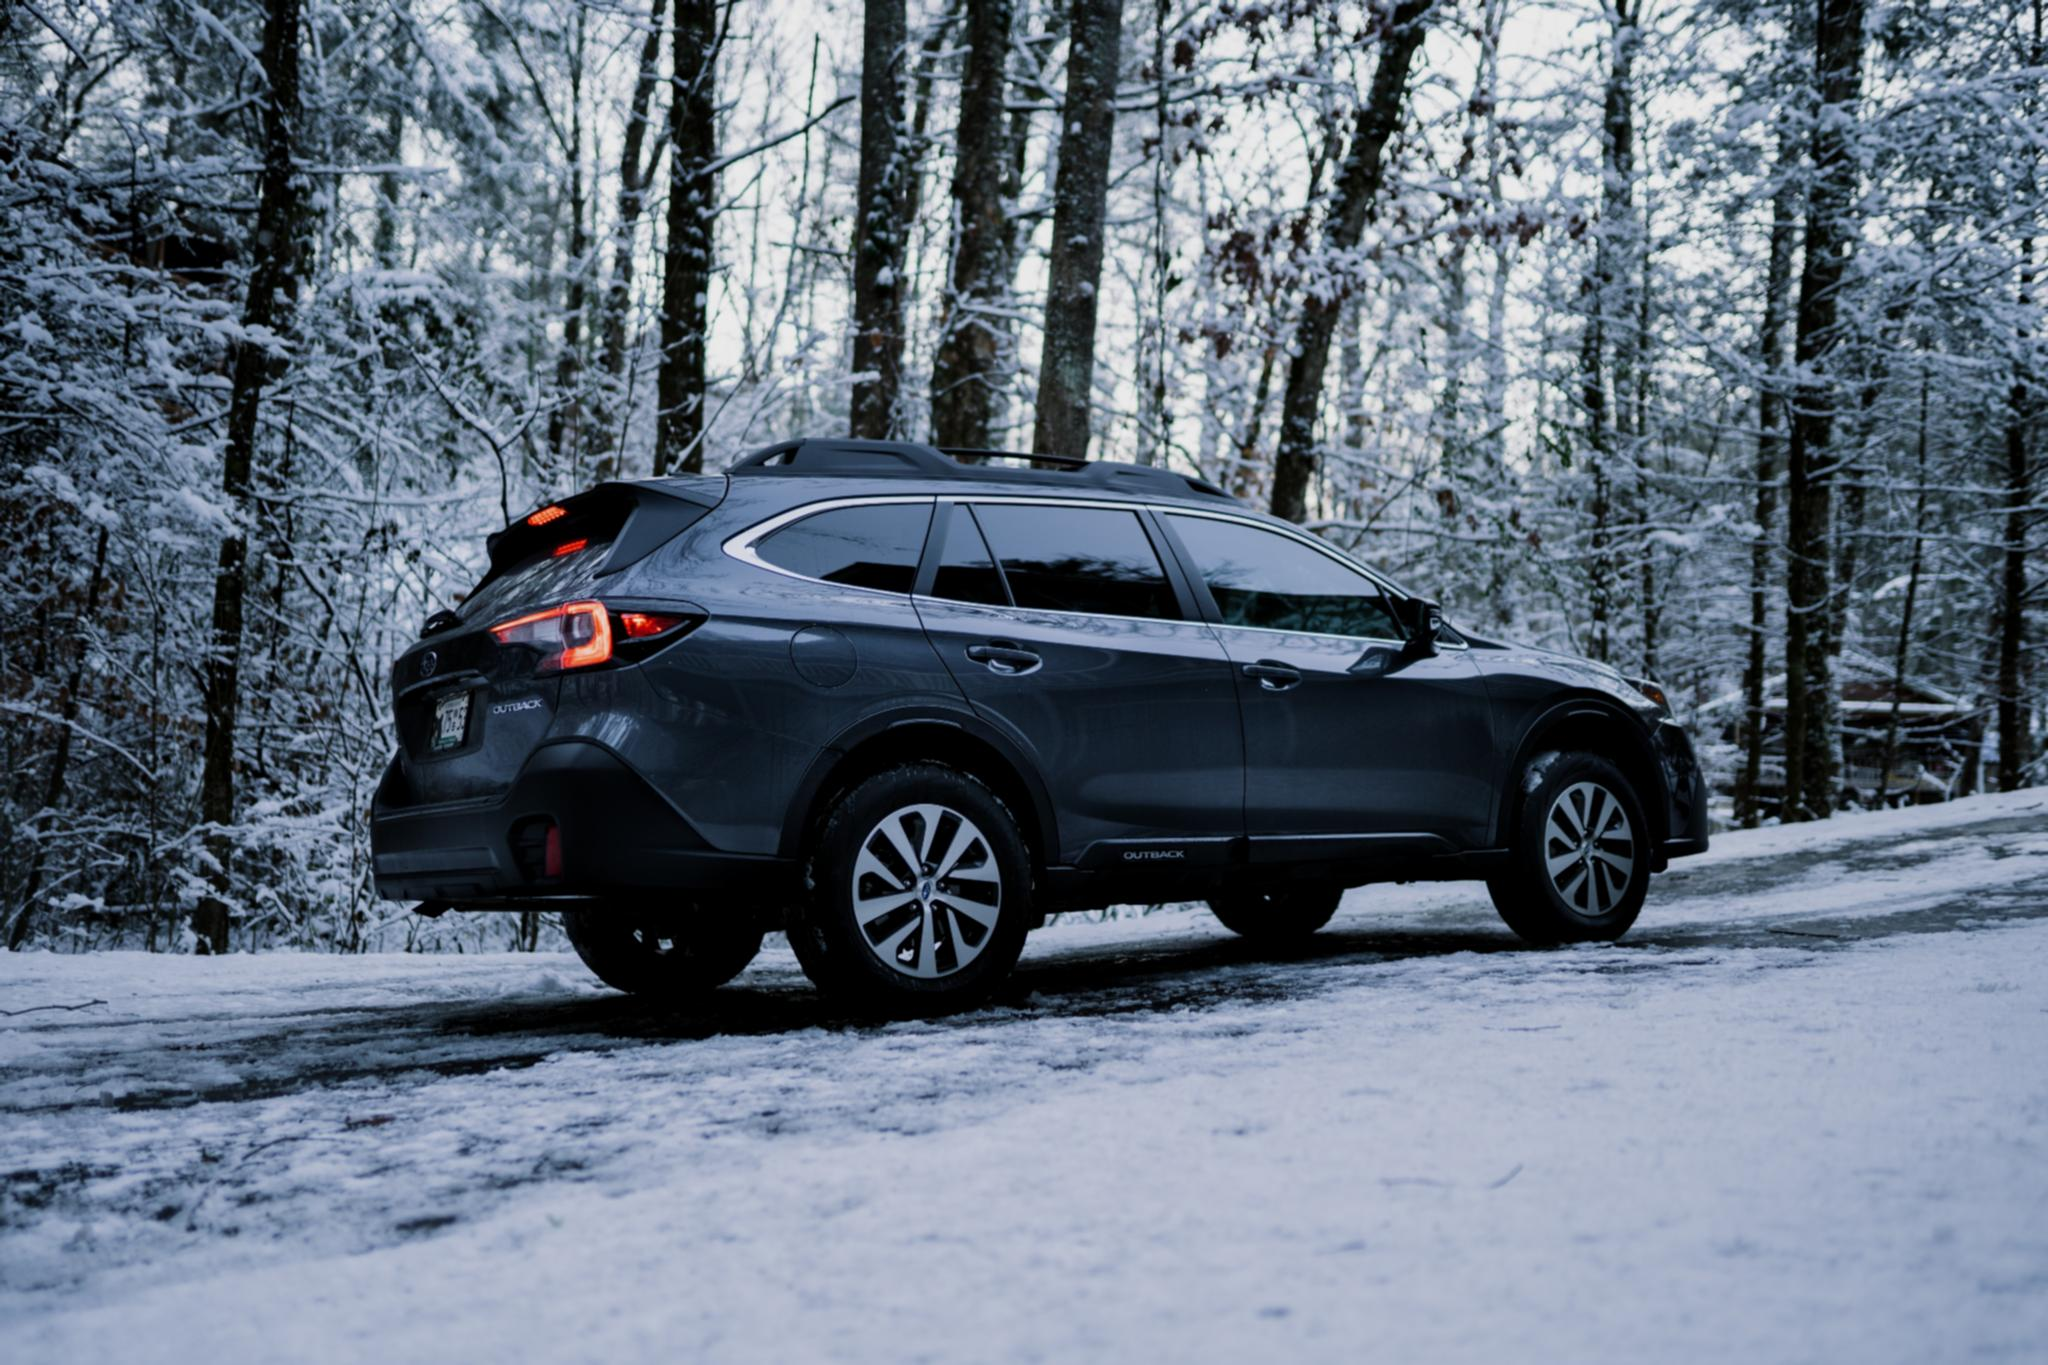subaru: (394, 643, 457, 689)
